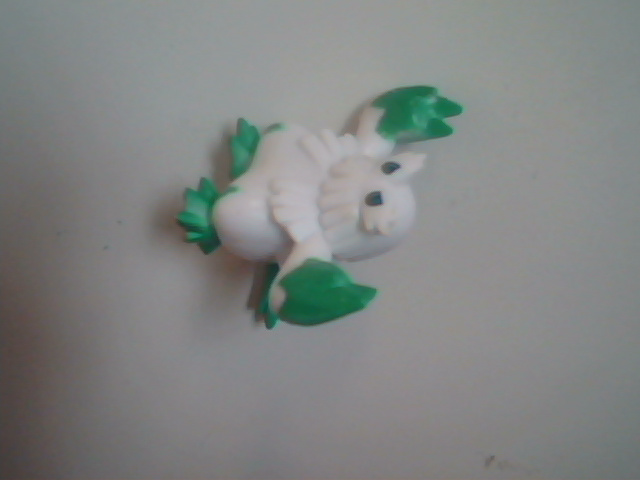abomasnow: (154, 45, 523, 383)
